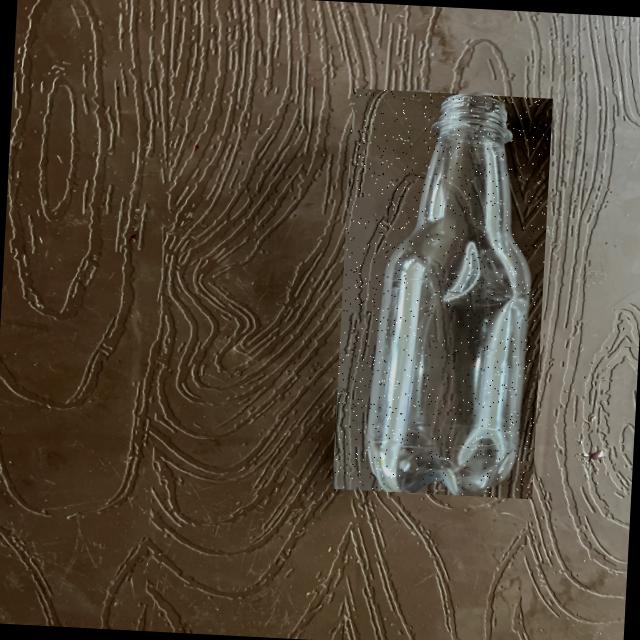PET_ClearBottle: (331, 88, 552, 498)
